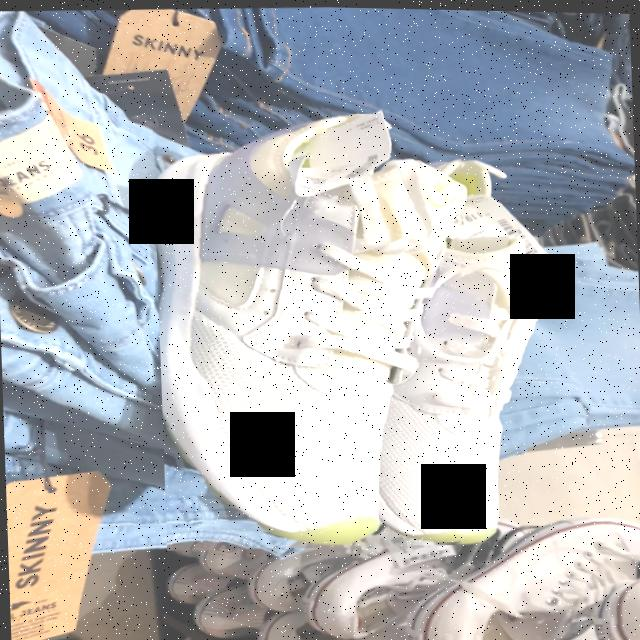shoe: (154, 111, 463, 546)
